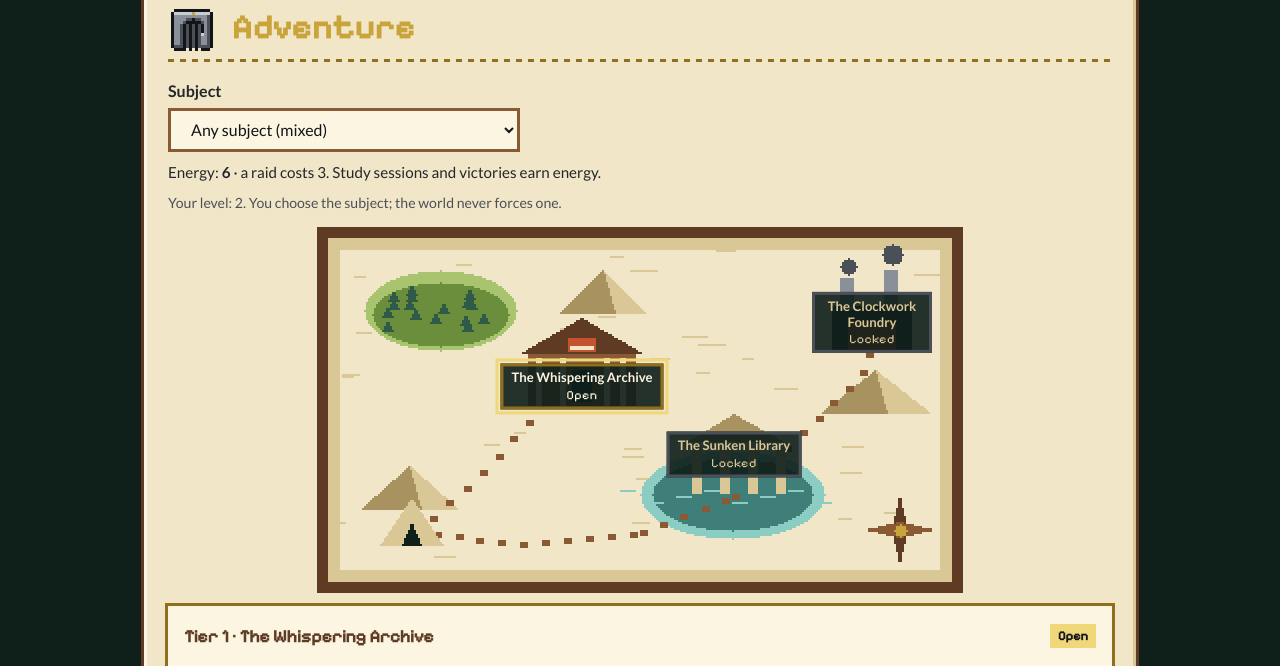
Test: Adventure: region map › the prep panel follows the chosen subject, links to the Library and never blocks entering
The image size is (1280, 666).
expect the heading "Adventure" is shown: met, box top-left (232, 7), bottom-right (415, 47)
Select "Math" in the dropdown labelled "Subject" at [344, 130], box top-left (168, 108), bottom-right (520, 152)
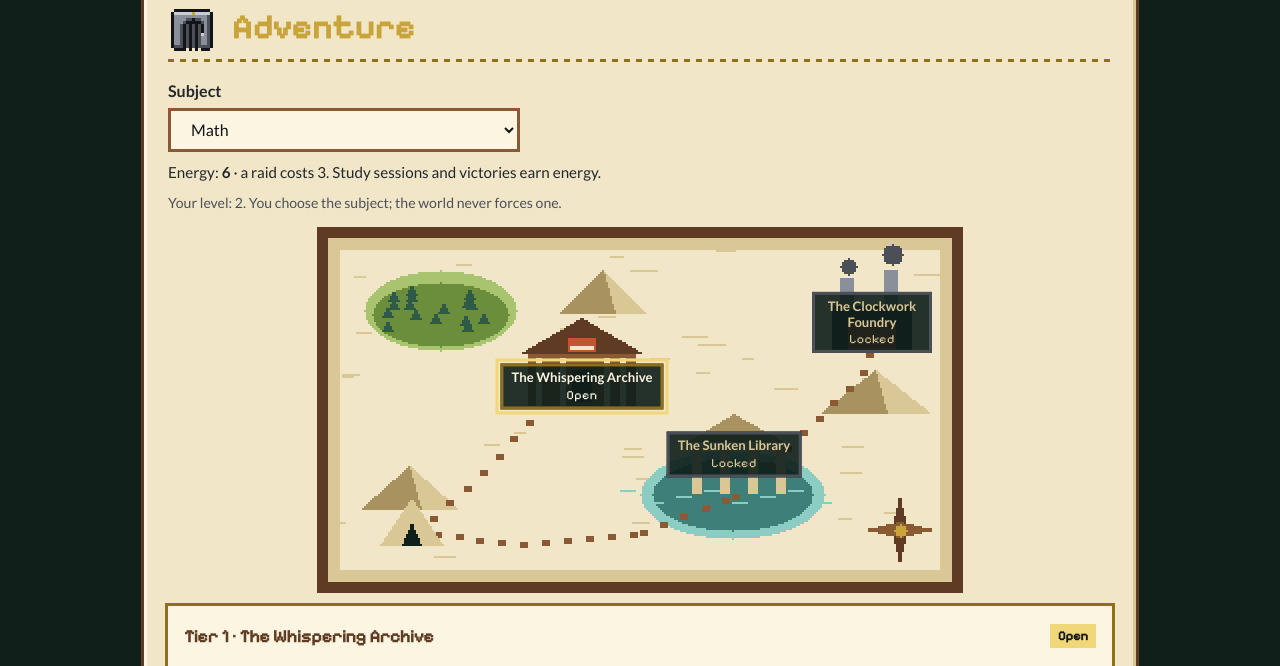
Select "History" in the dropdown labelled "Subject" at [344, 130], box top-left (168, 108), bottom-right (520, 152)
(page scrolled)
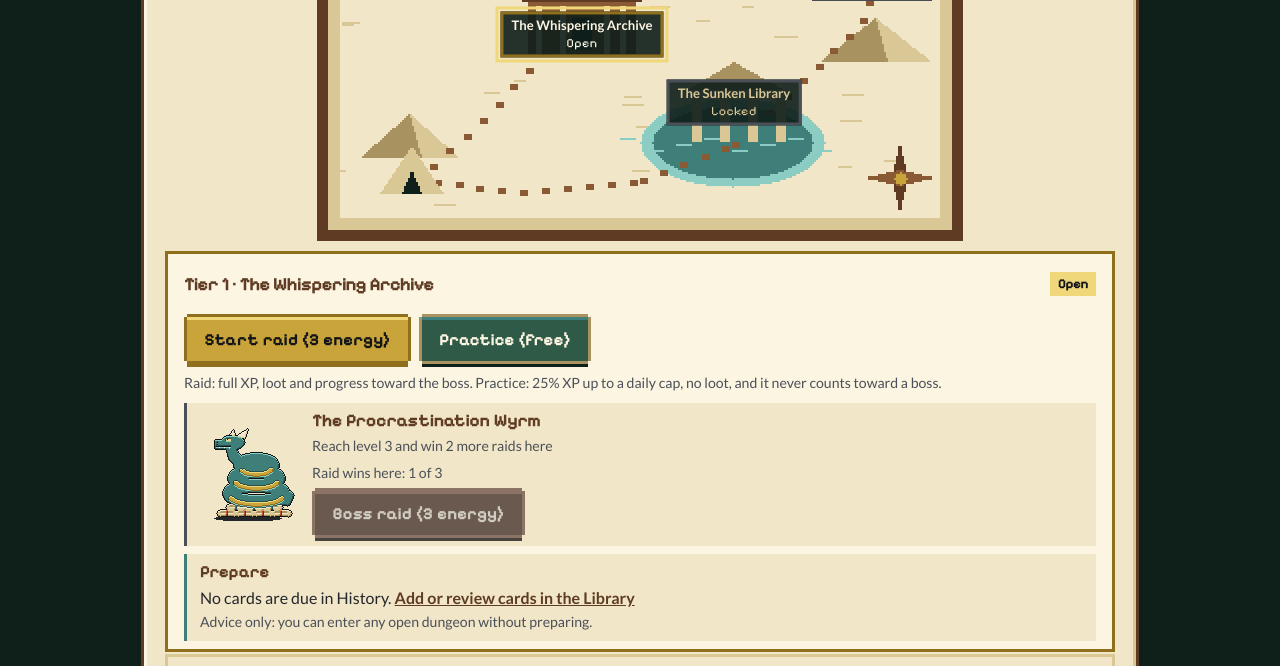
expect the button "Start raid (3 energy)" is enabled: met, box top-left (187, 317), bottom-right (408, 361)
expect the element with test id "prep-due" shows "No cards are due in History": met, box top-left (200, 588), bottom-right (392, 607)
